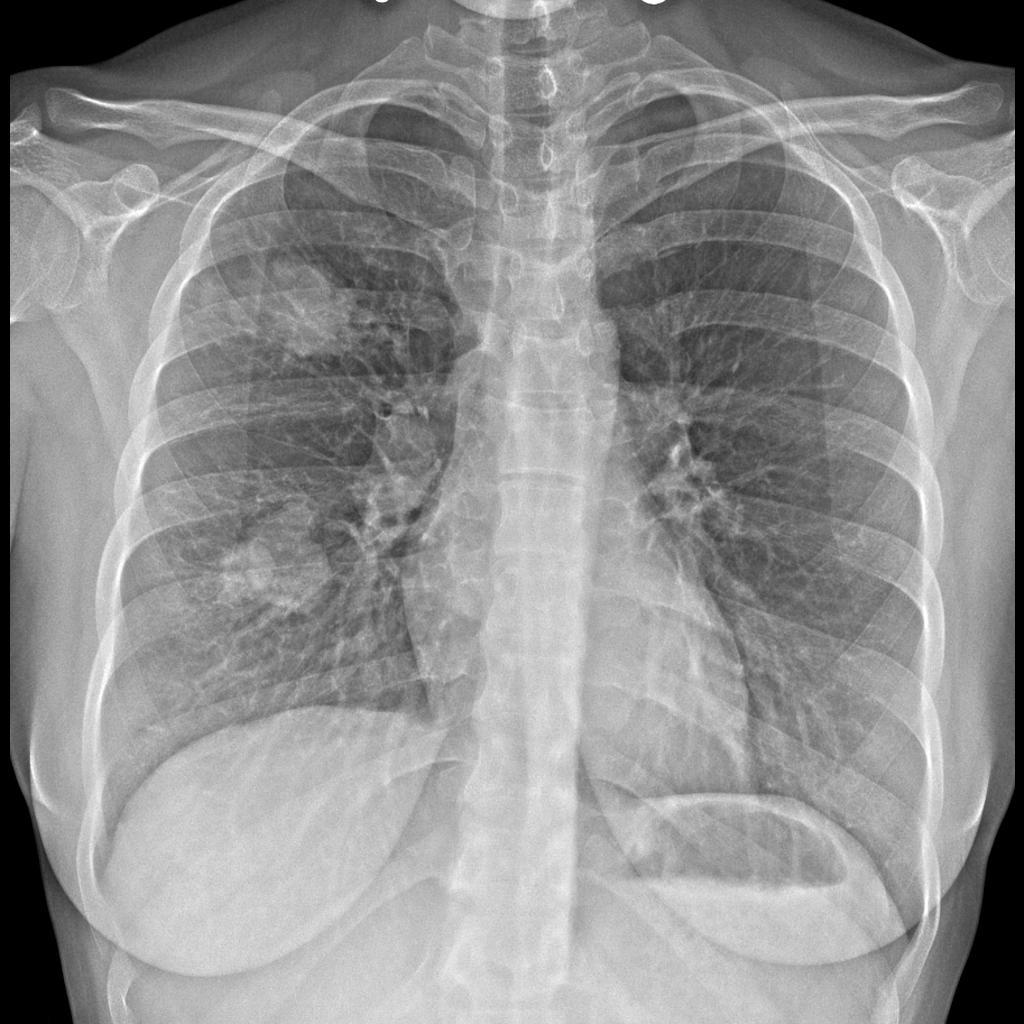Nodule: (208, 493, 343, 629), (221, 252, 361, 366)
